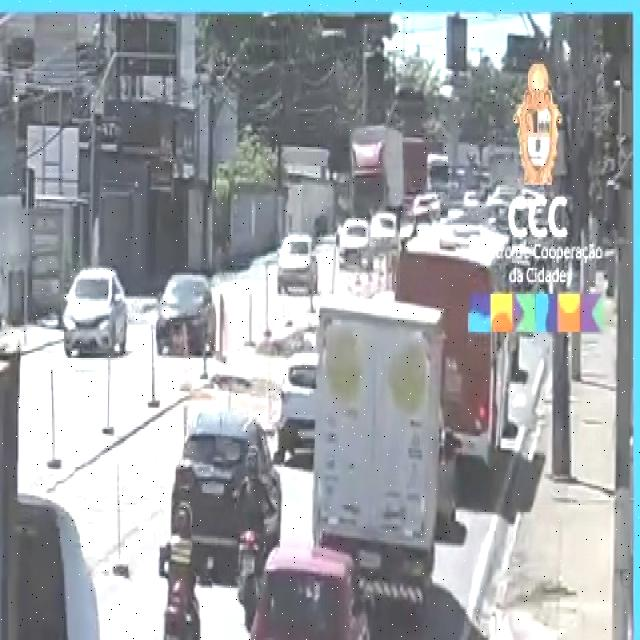biker: (154, 493, 214, 640)
car: (170, 405, 283, 576), (241, 557, 375, 640), (64, 252, 126, 363), (156, 274, 218, 358), (274, 230, 320, 297)
truck: (0, 317, 142, 640), (314, 281, 442, 608), (398, 220, 515, 486)
